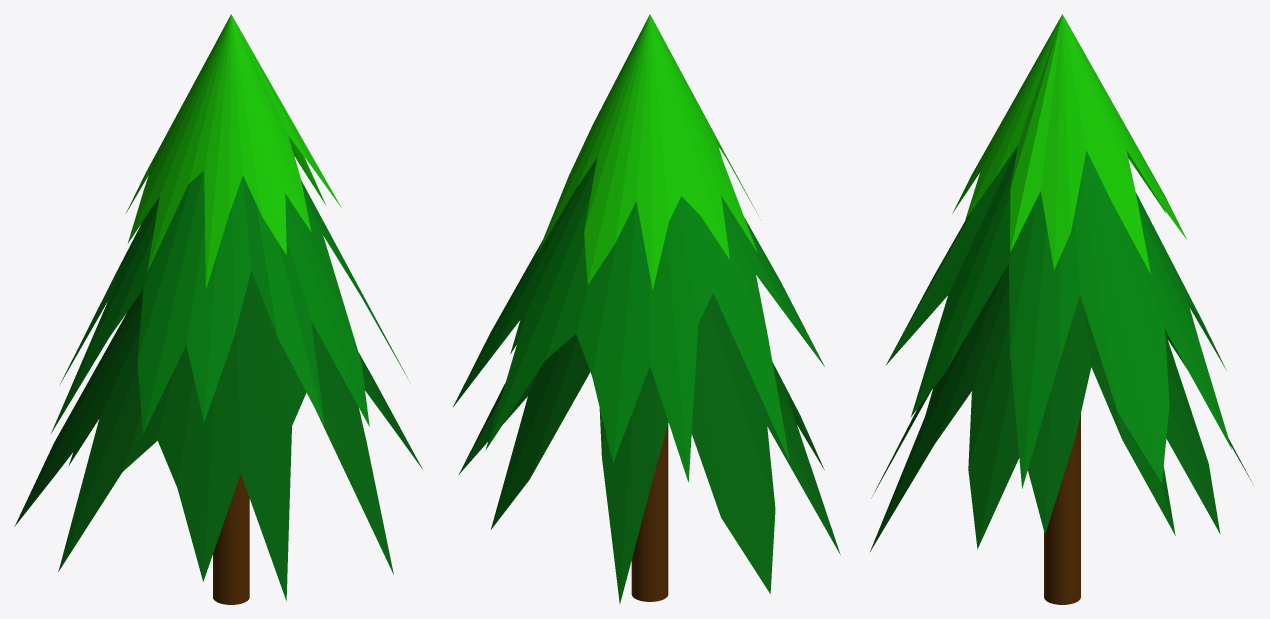
Rendered from treeState5.fbx.
3 renders of one model, left to right at view 1: azimuth 30°, elevation 25°; view 2: azimuth 150°, elevation 25°; view 3: azimuth 270°, elevation 25°, orthographic.
Visible parts, largest first — view 1: Cone.002, Cone.001, Cone, Cylinder; view 2: Cone.001, Cone.002, Cone, Cylinder; view 3: Cone.001, Cone.002, Cone, Cylinder.
Boxes of the visible parts, x1,y1,x2,y2 form: Cone.002: (14,270,422,600); Cone.001: (50,171,409,434); Cone: (126,14,341,289); Cylinder: (213,474,249,604); Cone.001: (453,158,824,482); Cone.002: (458,293,840,604); Cone: (537,14,760,289); Cylinder: (631,424,668,601); Cone.001: (886,145,1231,488); Cone.002: (870,263,1253,551); Cone: (952,14,1186,274); Cylinder: (1044,414,1080,604).
Bounding box in the file's own units: 134 × 217 × 130.
